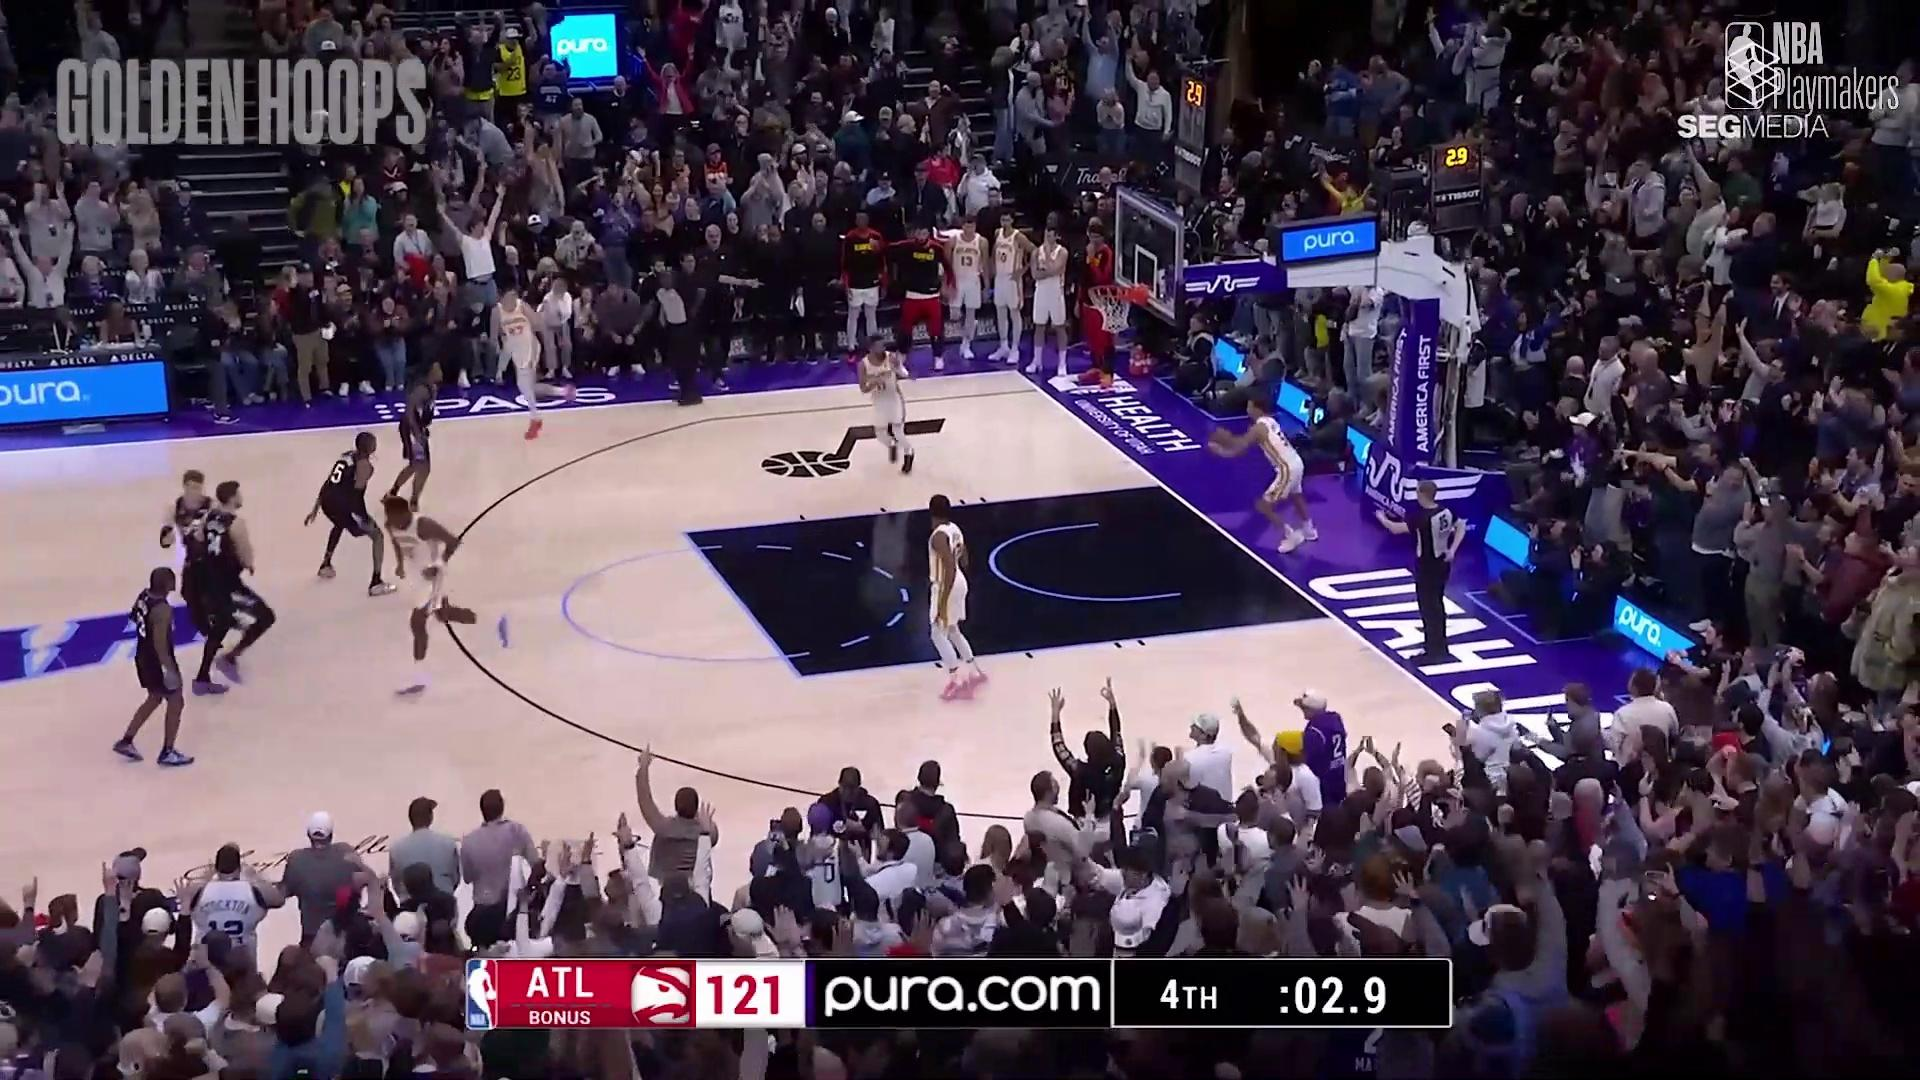hoop: (1091, 274, 1141, 338)
